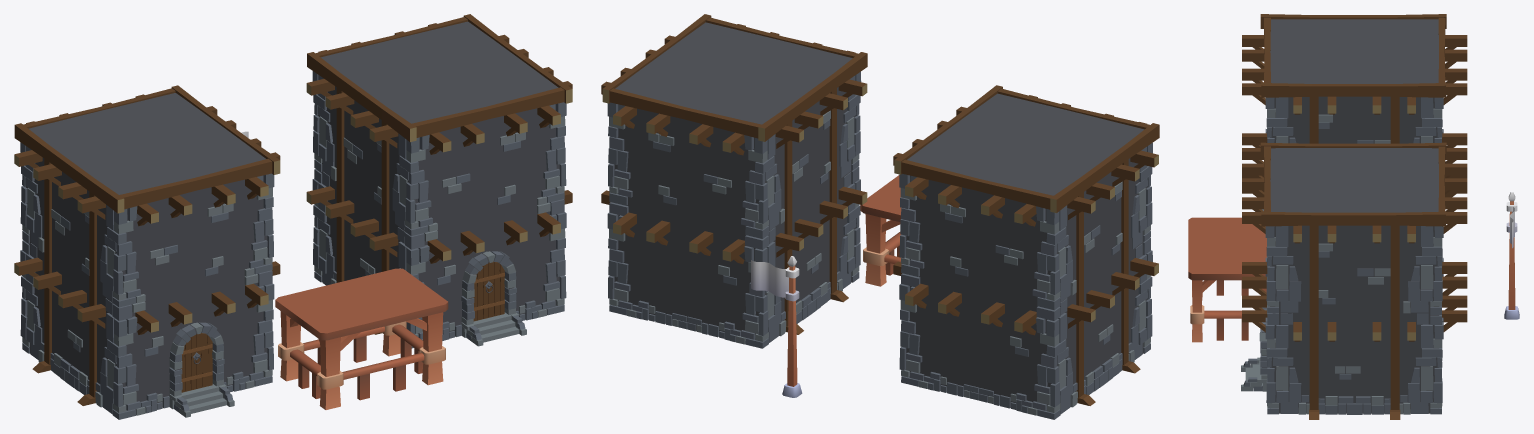
File: london_battle_2.glb
3 views of the same model, side by side, from view 1: azimuth 30°, elevation 25°; view 2: azimuth 150°, elevation 25°; view 3: azimuth 270°, elevation 25° (orthographic). The views are drawn at different scales.
Visible parts, largest first — view 1: House_3 (×2), structure-fence-sides, Group; view 2: House_3 (×2), structure-fence-sides, flag-high; view 3: House_3 (×2), structure-fence-sides, flag-high.
Boxes of the visible parts, bbox=[...] form: House_3 (×2): bbox=[14, 14, 572, 419]; structure-fence-sides: bbox=[275, 268, 448, 409]; Group: bbox=[303, 326, 424, 400]; House_3 (×2): bbox=[601, 14, 1159, 419]; structure-fence-sides: bbox=[860, 175, 901, 286]; flag-high: bbox=[751, 256, 802, 397]; House_3 (×2): bbox=[1241, 14, 1467, 419]; structure-fence-sides: bbox=[1188, 217, 1266, 342]; flag-high: bbox=[1504, 192, 1519, 319].
Size of the model in its own units: 20.14 by 8.77 by 13.05.
Materials: 14 (2 with a texture image).
